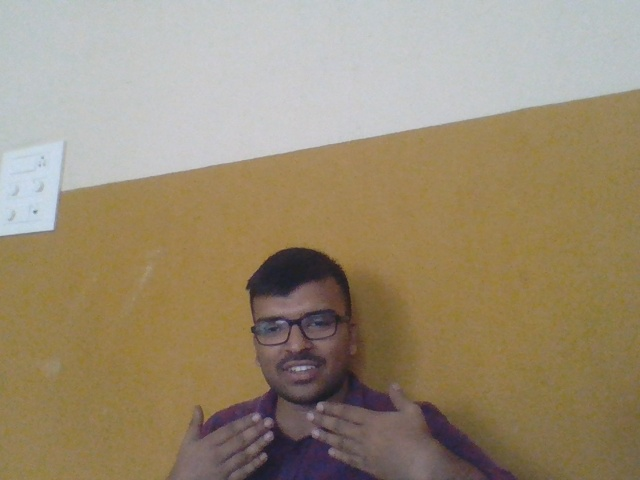Thank You: (157, 381, 447, 480)
